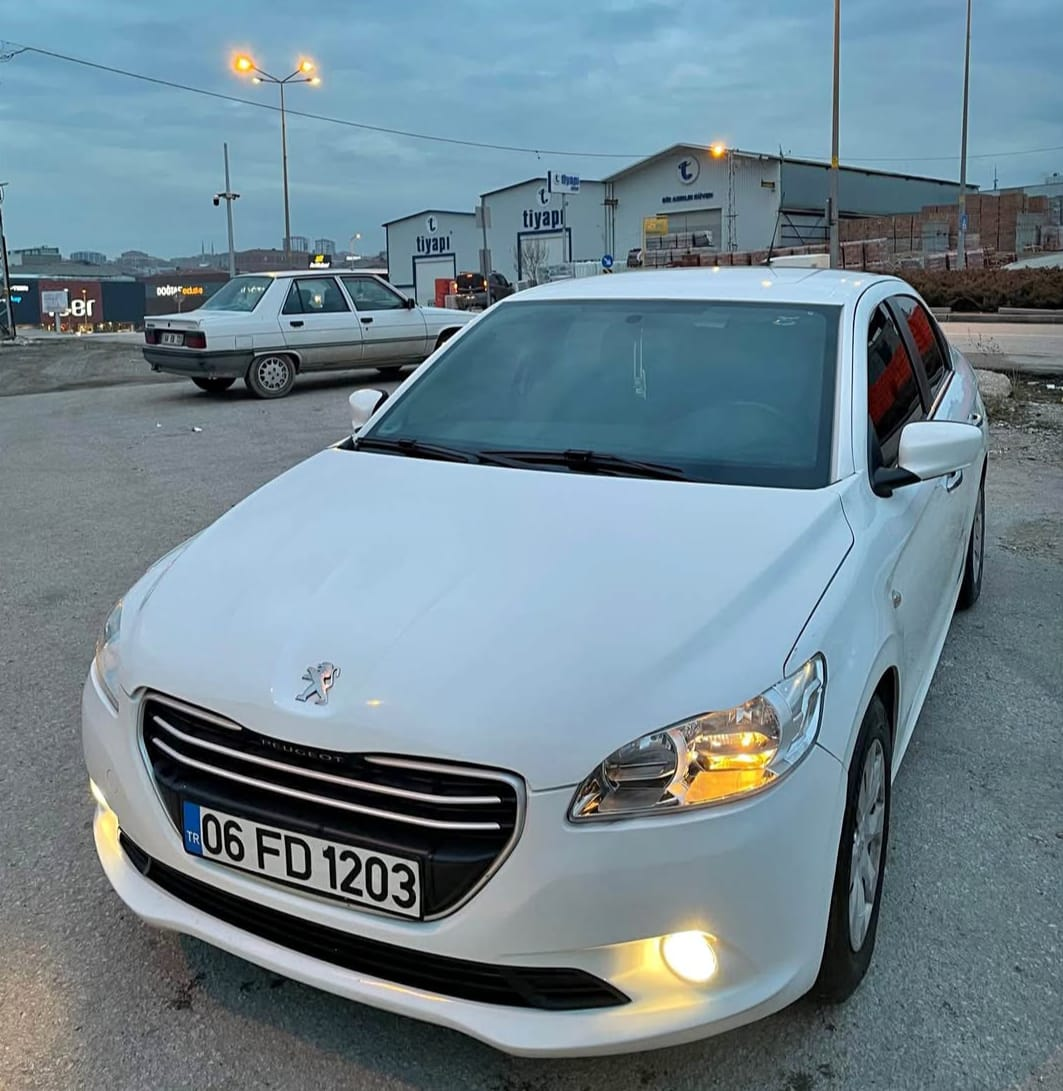plaka: (192, 800, 425, 914)
